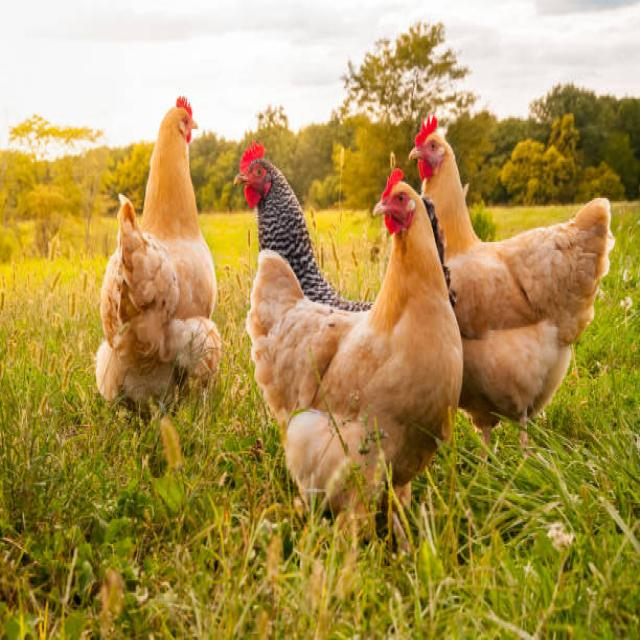Chicken: (258, 178, 476, 544), (413, 94, 617, 417), (101, 84, 242, 468), (231, 131, 329, 261)
